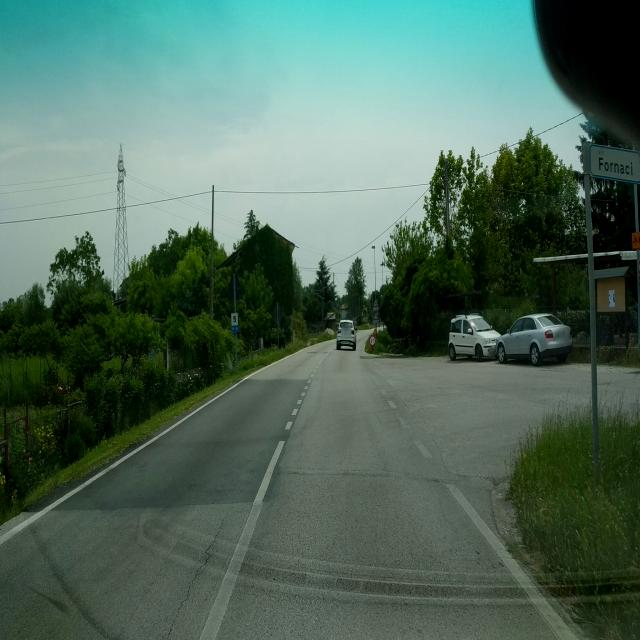car: (496, 312, 574, 365), (448, 313, 502, 362), (336, 318, 356, 351)
